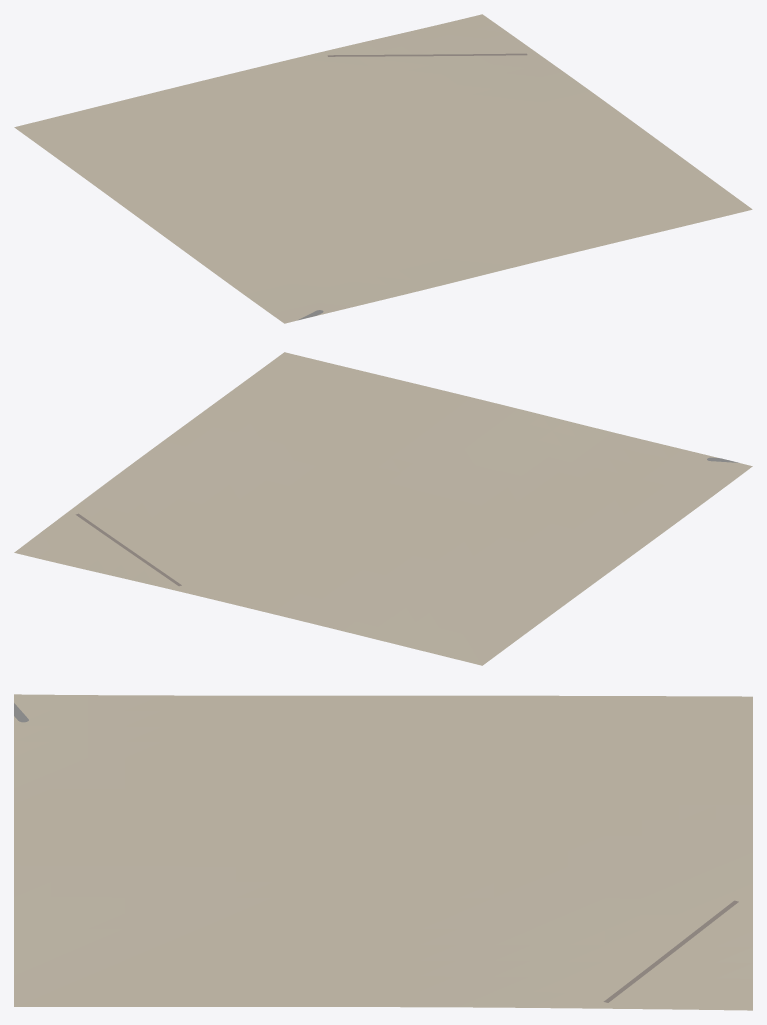
The model's file is bolak_18_-8.glb.
3 renders of one model, top to bottom at view 1: azimuth 30°, elevation 25°; view 2: azimuth 150°, elevation 25°; view 3: azimuth 270°, elevation 25°, orthographic. The views are drawn at different scales.
Visible parts, largest first — view 1: Yer_Tuproq-col; view 2: Yer_Tuproq-col; view 3: Yer_Tuproq-col, Temir_Yol.
Part boxes in pixels (x1,y1,x2,y2): Yer_Tuproq-col: (14, 14, 752, 323); Yer_Tuproq-col: (14, 352, 752, 665); Yer_Tuproq-col: (14, 694, 752, 1010); Temir_Yol: (603, 900, 738, 1002).
Size of what is drawn, in the model's own units: 400 by 2.54 by 400.
